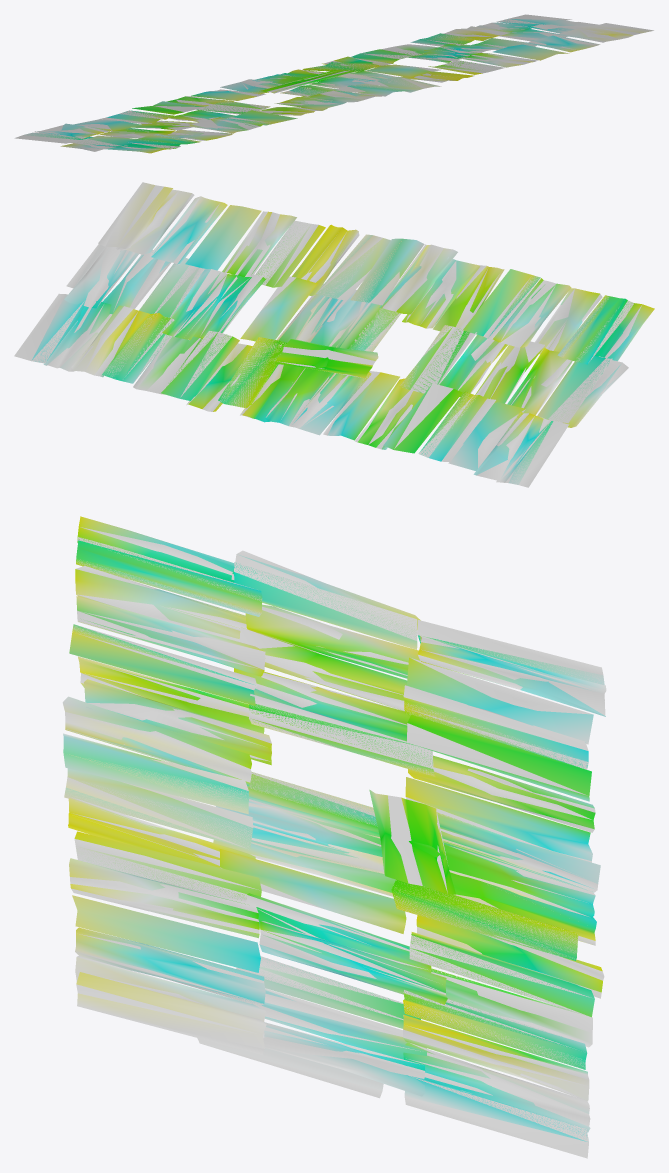
File: SM_MillRoof_NN_03a.FBX
3 renders of one model, top to bottom at view 1: azimuth 30°, elevation 25°; view 2: azimuth 150°, elevation 25°; view 3: azimuth 270°, elevation 25°, orthographic. The views are drawn at different scales.
Visible parts, largest first — view 1: SM_MillRoof_NN_03a_LOD0; view 2: SM_MillRoof_NN_03a_LOD0; view 3: SM_MillRoof_NN_03a_LOD0.
Boxes of the visible parts, x1=… form: SM_MillRoof_NN_03a_LOD0: x1=14, y1=14, x2=653, y2=153; SM_MillRoof_NN_03a_LOD0: x1=14, y1=182, x2=654, y2=487; SM_MillRoof_NN_03a_LOD0: x1=62, y1=516, x2=606, y2=1158.
Size of what is drawn, in the model's own units: 1909 by 867 by 304.
